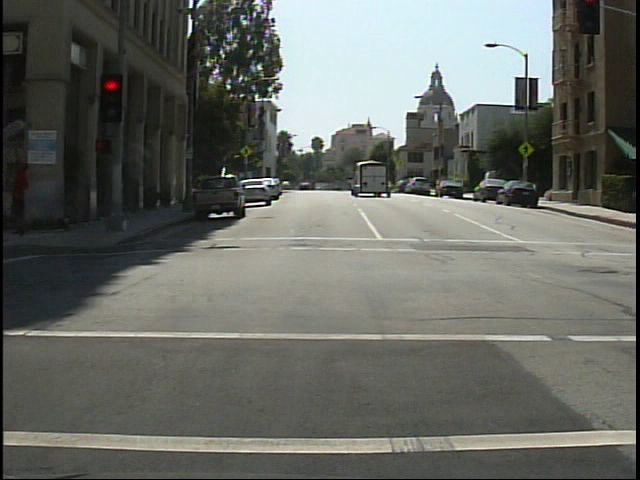person: (6, 157, 47, 239)
